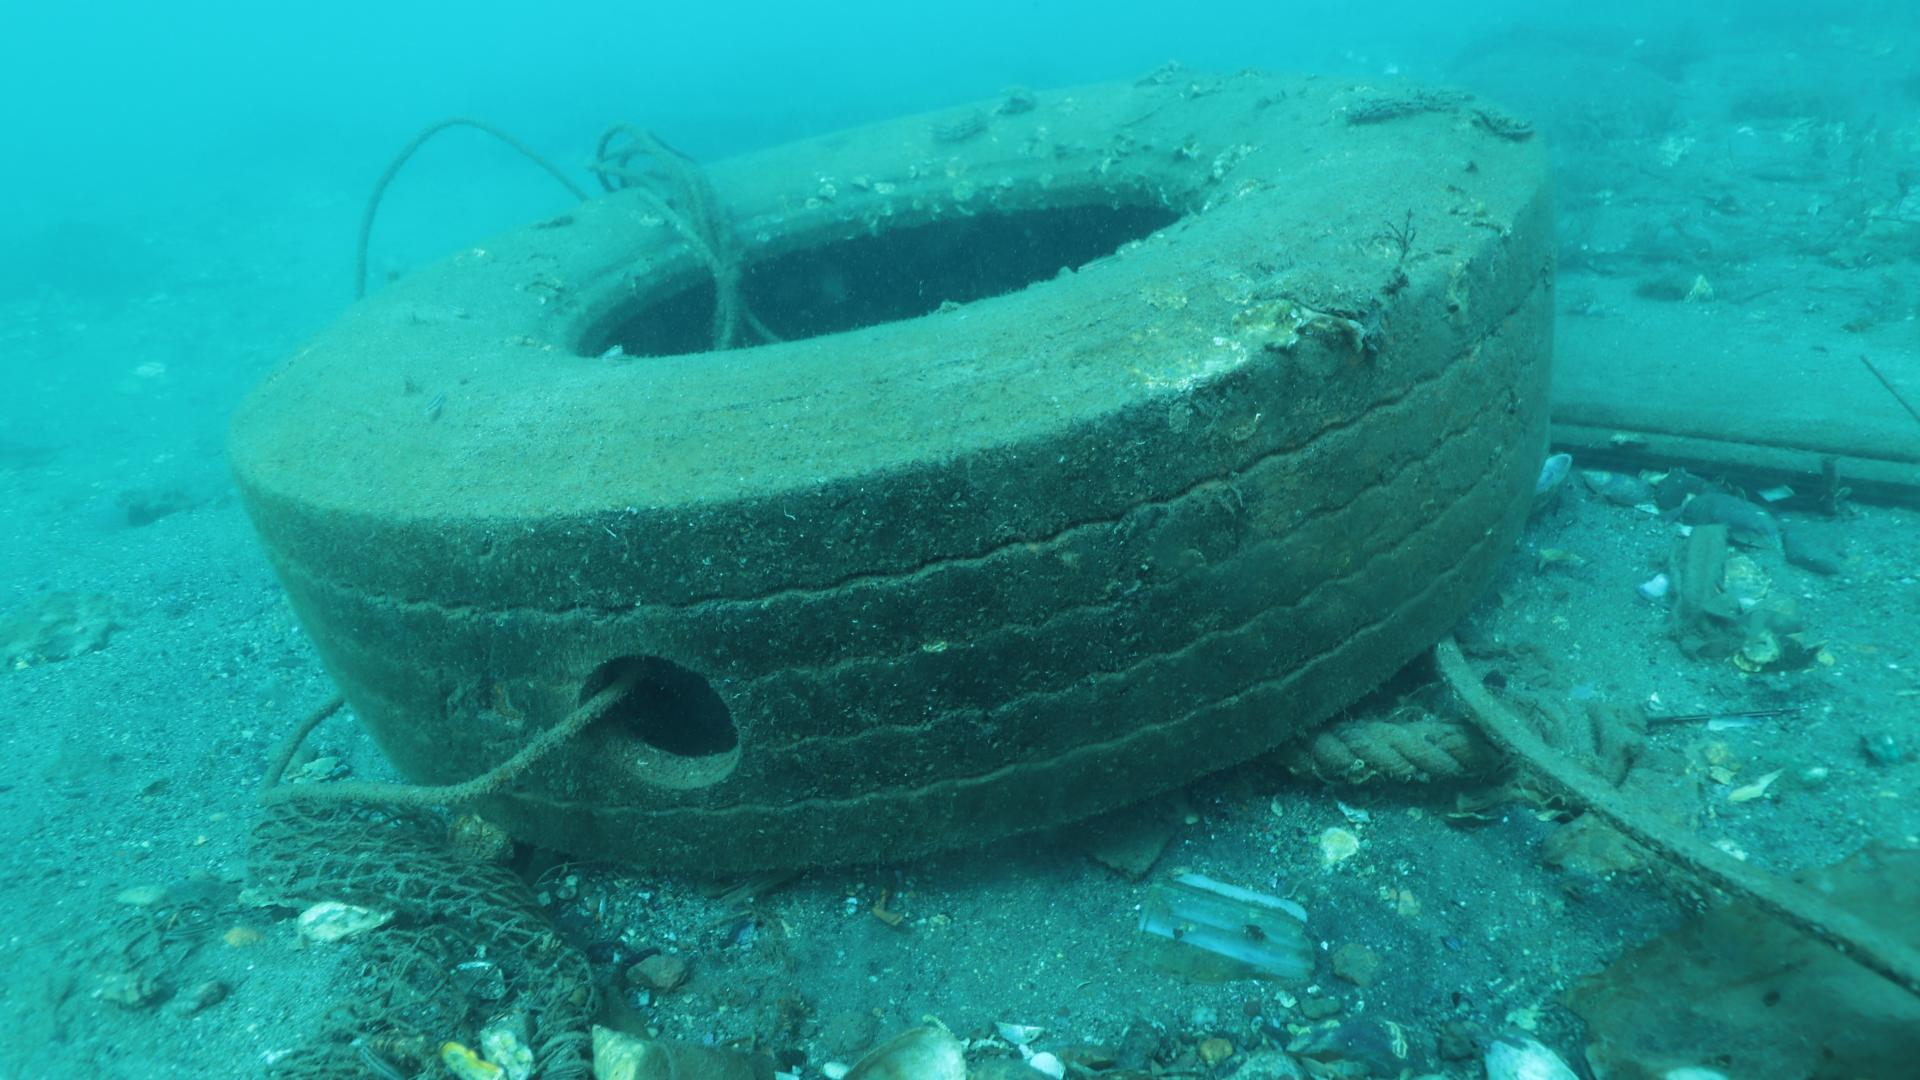bundle of ropes: (584, 121, 789, 353)
fish net: (222, 790, 588, 994)
rope: (252, 673, 621, 814), (349, 111, 595, 301), (1284, 698, 1502, 800)
tire: (239, 69, 1557, 880)
